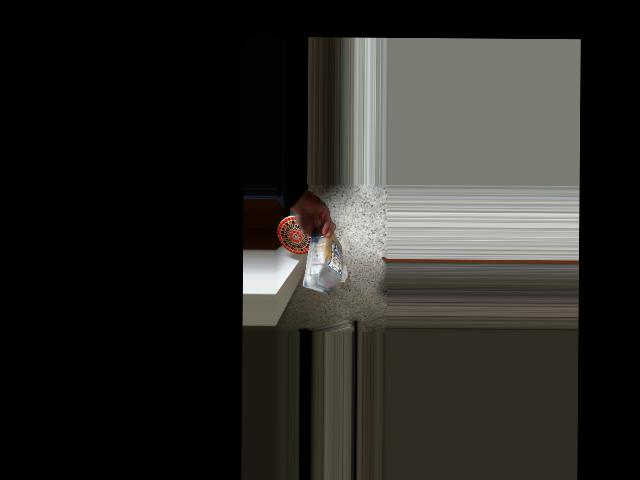cheese: (305, 229, 343, 295)
